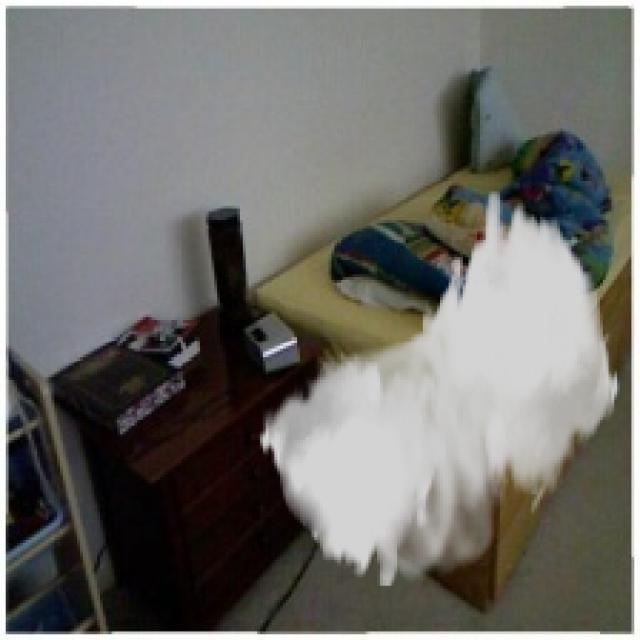smoke: (257, 192, 620, 588)
